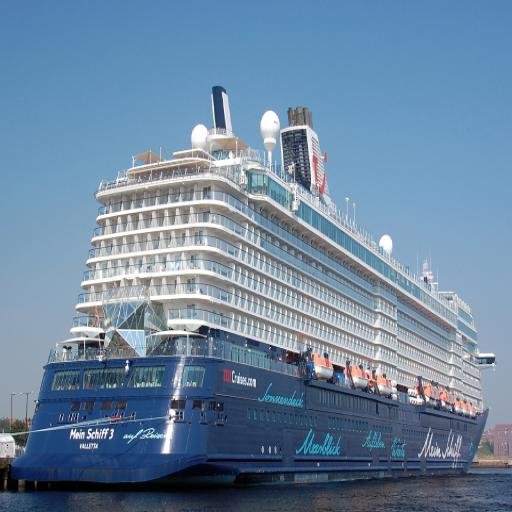cruises: (12, 84, 498, 496)
